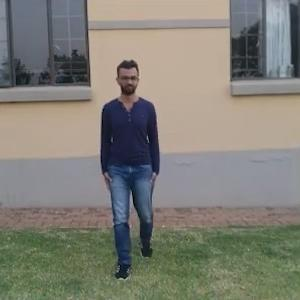follow: (91, 42, 165, 281)
